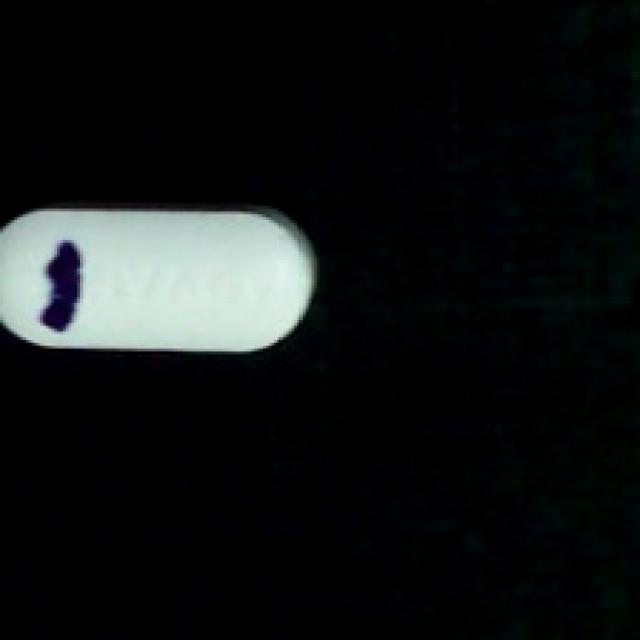defected: (0, 197, 326, 369)
